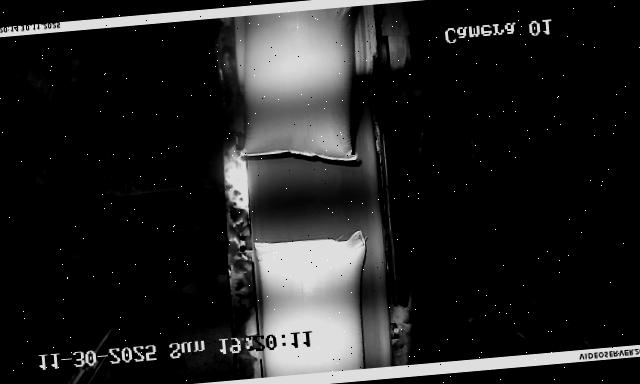bag: (229, 4, 376, 168), (252, 230, 376, 378)
